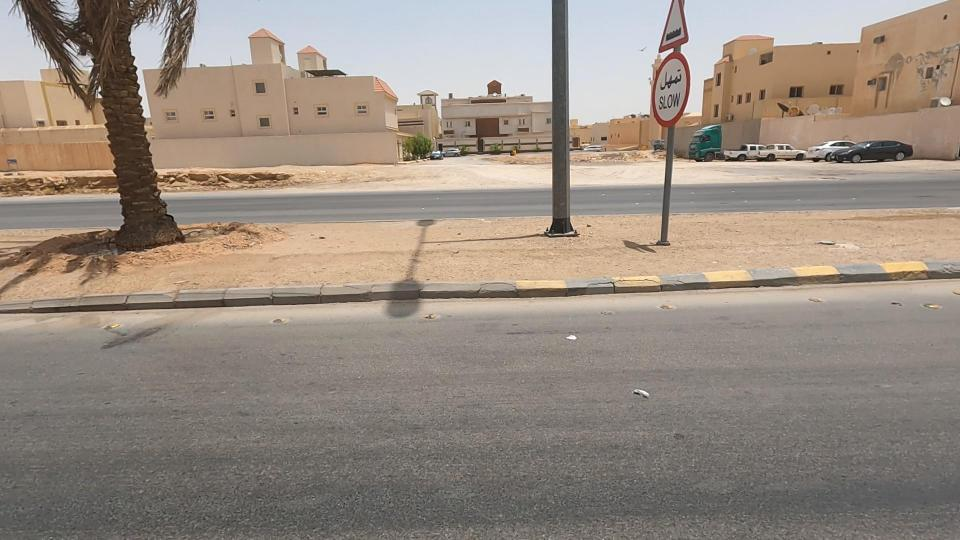CLUTTER_SIDEWALK: (82, 170, 701, 332), (624, 174, 957, 294)
